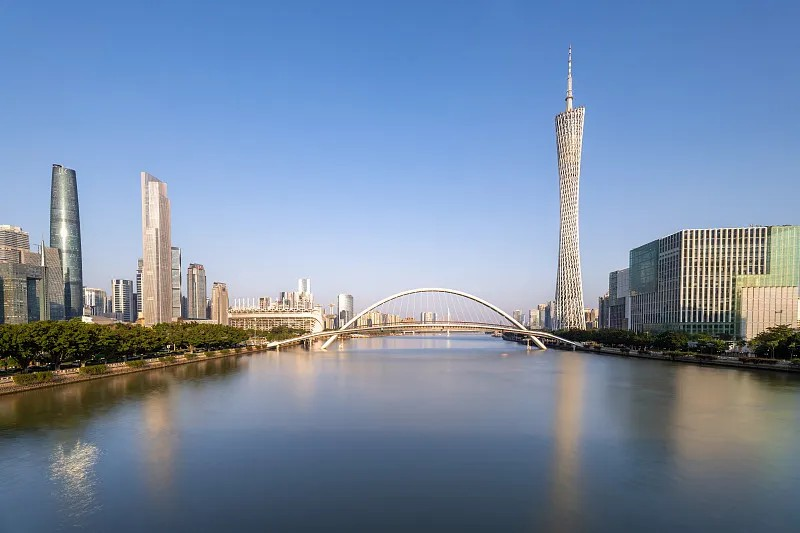Canton: (552, 42, 589, 333)
